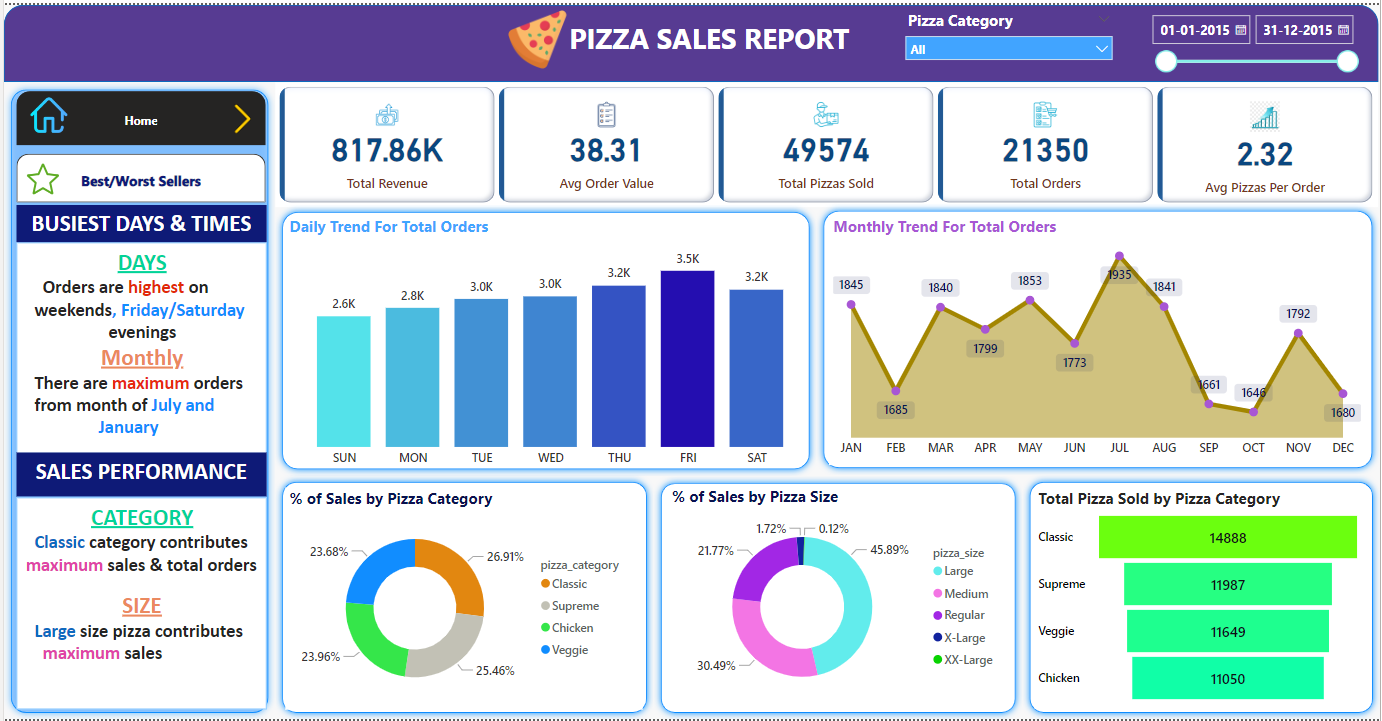

The dashboard page shown, as its layout file describes it:
{"tool":"powerbi","page":{"name":"Home","canvas":[1580,820],"ordinal":0},"visuals":[{"type":"cardVisual","fields":{"Data":["pizza_sales.Total Revenue","pizza_sales.Avg Order Value","pizza_sales.Total Pizzas Sold","pizza_sales.Total Orders","pizza_sales.Avg Pizzas Per Order"]},"box":[311.6,88.4,1266.7,143.5],"z":0},{"type":"shape","box":[0,0,1578.3,88.4],"z":1000},{"type":"textbox","box":[623.2,11.6,373.9,68.1],"z":2000},{"type":"image","box":[563.8,0,97.1,79.7],"z":3000},{"type":"shape","box":[311.6,229,621.7,311.6],"z":4000},{"type":"columnChart","title":"Daily Trend For Total Orders","fields":{"Y":["pizza_sales.Total Orders"],"Category":["pizza_sales.Order Day"]},"box":[323.2,242,610.1,297.1],"z":5000},{"type":"shape","box":[933.3,227.5,646.4,311.6],"z":6000},{"type":"areaChart","title":"Monthly Trend For Total Orders","fields":{"Category":["pizza_sales.Order Month"],"Y":["pizza_sales.Total Orders"]},"box":[947.8,242,615.9,285.5],"z":7000},{"type":"shape","box":[311.6,539.1,434.8,281.2],"z":8000},{"type":"shape","box":[746.4,540.6,423.2,279.7],"z":9000},{"type":"shape","box":[1169.6,539.1,410.1,281.2],"z":10000},{"type":"shape","box":[0,88.4,311.6,731.9],"z":11000},{"type":"textbox","box":[14.5,229,287,43.5],"z":12000},{"type":"donutChart","title":"% of Sales by Pizza Category","fields":{"Category":["pizza_sales.pizza_category"],"Y":["pizza_sales.Total Revenue"]},"box":[323.2,553.6,410.1,255],"z":13000},{"type":"donutChart","title":"% of Sales by Pizza Size","fields":{"Y":["pizza_sales.Total Revenue"],"Category":["pizza_sales.pizza_size"]},"box":[762.3,552.2,391.3,255.1],"z":14000},{"type":"funnel","title":"Total Pizza Sold by Pizza Category","fields":{"Category":["pizza_sales.pizza_category"],"Y":["pizza_sales.Total Pizzas Sold"]},"box":[1182.6,553.6,381.2,253.6],"z":15000},{"type":"textbox","box":[14.5,272.5,287,242],"z":16000},{"type":"textbox","box":[14.5,514.5,287,50.7],"z":17000},{"type":"textbox","box":[14.5,565.2,287,243.5],"z":18000},{"type":"slicer","fields":{"Values":["pizza_sales.pizza_category"]},"box":[1024.6,1.4,258,79.7],"z":19000},{"type":"slicer","fields":{"Values":["pizza_sales.order_date"]},"box":[1305.8,1.4,258,79.7],"z":20000},{"type":"pageNavigator","box":[14.5,98.6,287,62.3],"z":20001},{"type":"pageNavigator","box":[14.5,171,287,56.5],"z":20002},{"type":"image","box":[246.4,108.7,55.1,43.5],"z":20003},{"type":"image","box":[14.5,100,73.9,52.2],"z":20004},{"type":"image","box":[14.5,176.8,60.9,46.4],"z":20005}]}

Visuals, with their boxes in screenshot pixels (x1, y1, x2, y2), scaled from the page's 1580x820 canvas onto the 1382x721 screenshot:
cardVisual - pizza_sales.Total Revenue x pizza_sales.Avg Order Value: pyautogui.locateOnScreen(273, 78, 1381, 204)
shape: pyautogui.locateOnScreen(0, 0, 1381, 78)
textbox: pyautogui.locateOnScreen(545, 10, 872, 70)
image: pyautogui.locateOnScreen(493, 0, 578, 70)
shape: pyautogui.locateOnScreen(273, 201, 816, 475)
"Daily Trend For Total Orders" columnChart: pyautogui.locateOnScreen(283, 213, 816, 474)
shape: pyautogui.locateOnScreen(816, 200, 1381, 474)
"Monthly Trend For Total Orders" areaChart: pyautogui.locateOnScreen(829, 213, 1368, 464)
shape: pyautogui.locateOnScreen(273, 474, 653, 720)
shape: pyautogui.locateOnScreen(653, 475, 1023, 720)
shape: pyautogui.locateOnScreen(1023, 474, 1381, 720)
shape: pyautogui.locateOnScreen(0, 78, 273, 720)
textbox: pyautogui.locateOnScreen(13, 201, 264, 240)
"% of Sales by Pizza Category" donutChart: pyautogui.locateOnScreen(283, 487, 641, 711)
"% of Sales by Pizza Size" donutChart: pyautogui.locateOnScreen(667, 486, 1009, 710)
"Total Pizza Sold by Pizza Category" funnel: pyautogui.locateOnScreen(1034, 487, 1368, 710)
textbox: pyautogui.locateOnScreen(13, 240, 264, 452)
textbox: pyautogui.locateOnScreen(13, 452, 264, 497)
textbox: pyautogui.locateOnScreen(13, 497, 264, 711)
slicer - pizza_sales.pizza_category: pyautogui.locateOnScreen(896, 1, 1122, 71)
slicer - pizza_sales.order_date: pyautogui.locateOnScreen(1142, 1, 1368, 71)
pageNavigator: pyautogui.locateOnScreen(13, 87, 264, 141)
pageNavigator: pyautogui.locateOnScreen(13, 150, 264, 200)
image: pyautogui.locateOnScreen(216, 96, 264, 134)
image: pyautogui.locateOnScreen(13, 88, 77, 134)
image: pyautogui.locateOnScreen(13, 155, 66, 196)
